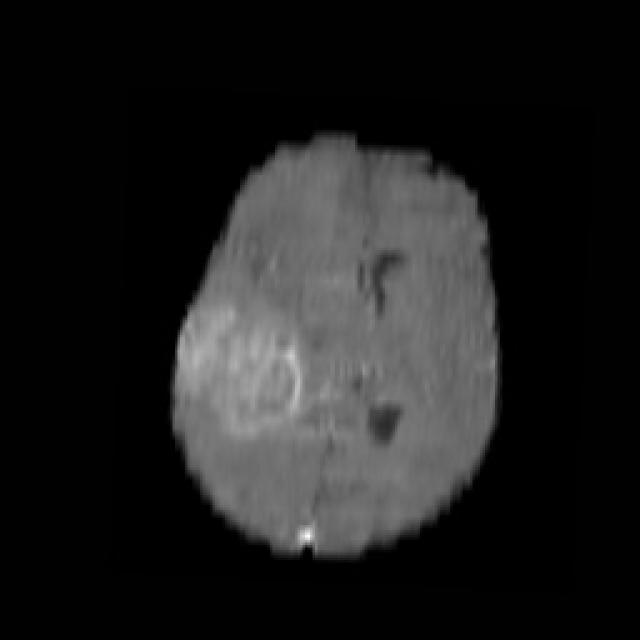negative: (210, 326, 302, 436)
